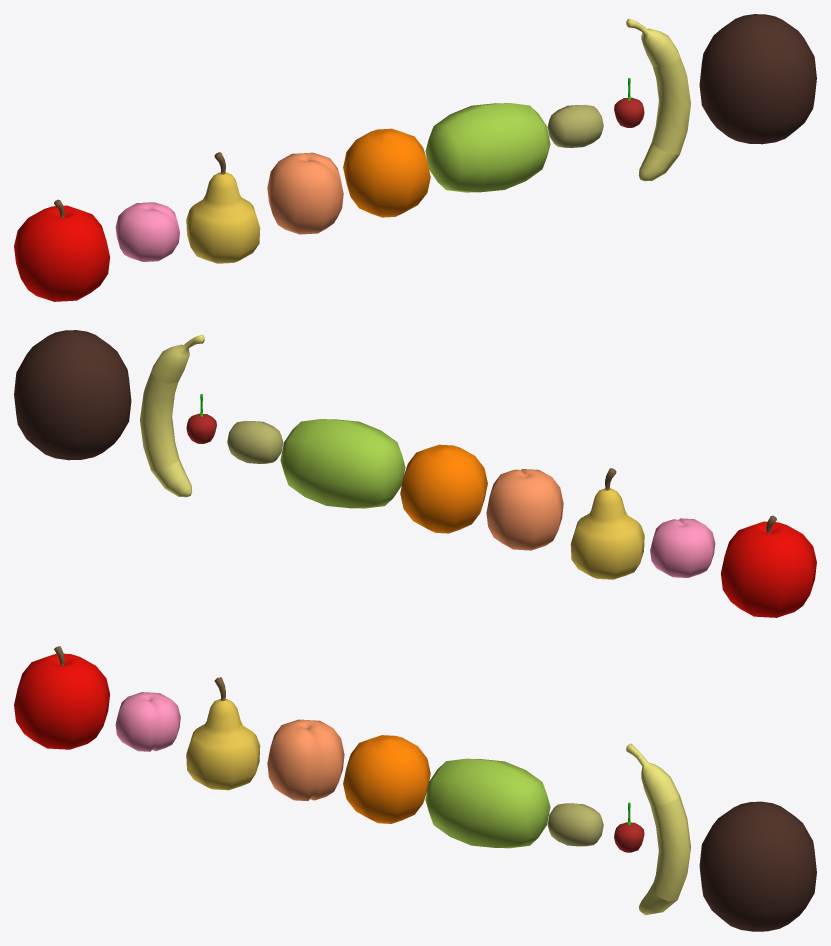
The model's file is fruit pack 01.fbx.
3 views of the same model, one above another, from view 1: azimuth 30°, elevation 25°; view 2: azimuth 150°, elevation 25°; view 3: azimuth 330°, elevation 25° (orthographic).
Visible parts, largest first — view 1: coconut, mango, apple, orange, peach, pear, banana, plum, kiwi, cherry; view 2: coconut, mango, apple, orange, peach, pear, banana, plum, kiwi, cherry; view 3: coconut, mango, apple, orange, peach, pear, banana, plum, kiwi, cherry.
Part boxes in pixels (x1,y1,x2,y2): coconut: (699, 14, 816, 144); mango: (425, 103, 550, 192); apple: (14, 199, 109, 301); orange: (343, 128, 430, 217); peach: (267, 152, 343, 234); pear: (186, 152, 260, 263); banana: (626, 18, 690, 181); plum: (115, 202, 179, 261); kiwi: (547, 104, 603, 147); cherry: (614, 78, 644, 127); coconut: (14, 330, 131, 460); mango: (280, 419, 405, 508); apple: (721, 515, 816, 617); orange: (400, 444, 487, 533); peach: (486, 469, 563, 550); pear: (570, 468, 644, 579); banana: (140, 334, 204, 497); plum: (650, 518, 715, 577); kiwi: (227, 420, 283, 463); cherry: (186, 394, 216, 443); coconut: (699, 801, 816, 931); mango: (425, 758, 550, 848); apple: (14, 646, 109, 749); orange: (343, 735, 430, 823); peach: (267, 719, 344, 800); pear: (186, 677, 260, 790); banana: (626, 743, 690, 915); plum: (115, 692, 180, 751); kiwi: (547, 803, 603, 846); cherry: (614, 802, 644, 852).
Size of the model in its own units: 147 by 29.4 by 19.04.
